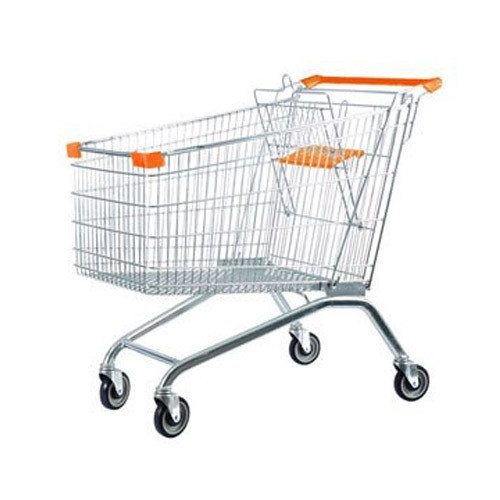with_basket: (75, 71, 437, 416)
